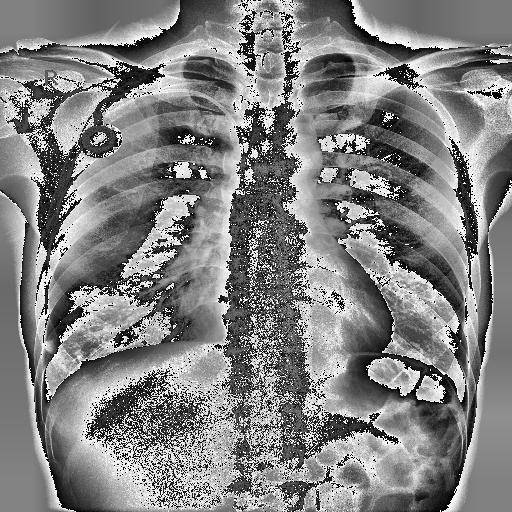0- Aortic enlargement: (266, 132, 322, 186)
8- Nodule-Mass: (42, 338, 58, 354), (44, 338, 58, 354), (42, 340, 58, 354)
